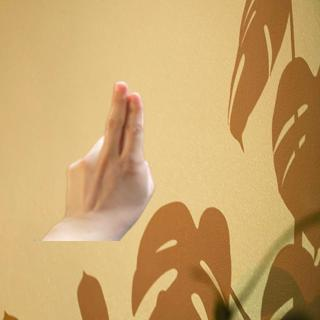DHAVE: (58, 78, 158, 233)
